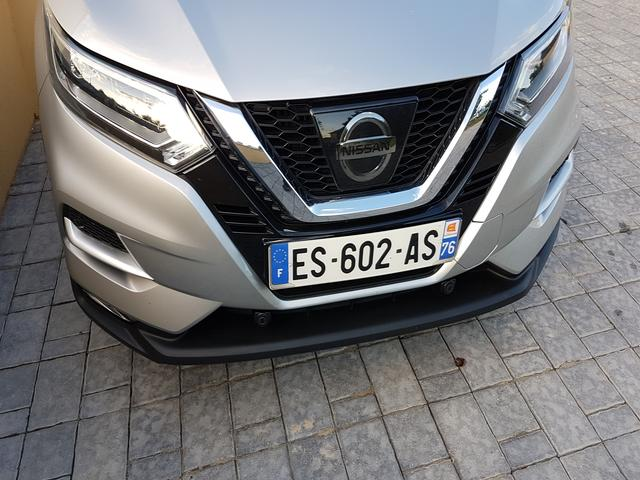Quashquai: (248, 196, 493, 305)
